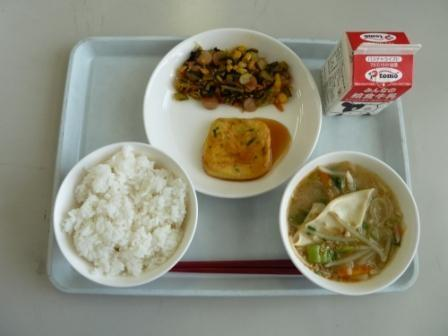Milk: (314, 20, 423, 117)
Rice: (52, 143, 201, 282)
Soups: (287, 160, 406, 275)
cutlet: (191, 107, 282, 187)
salad with sauce: (167, 33, 296, 110)
